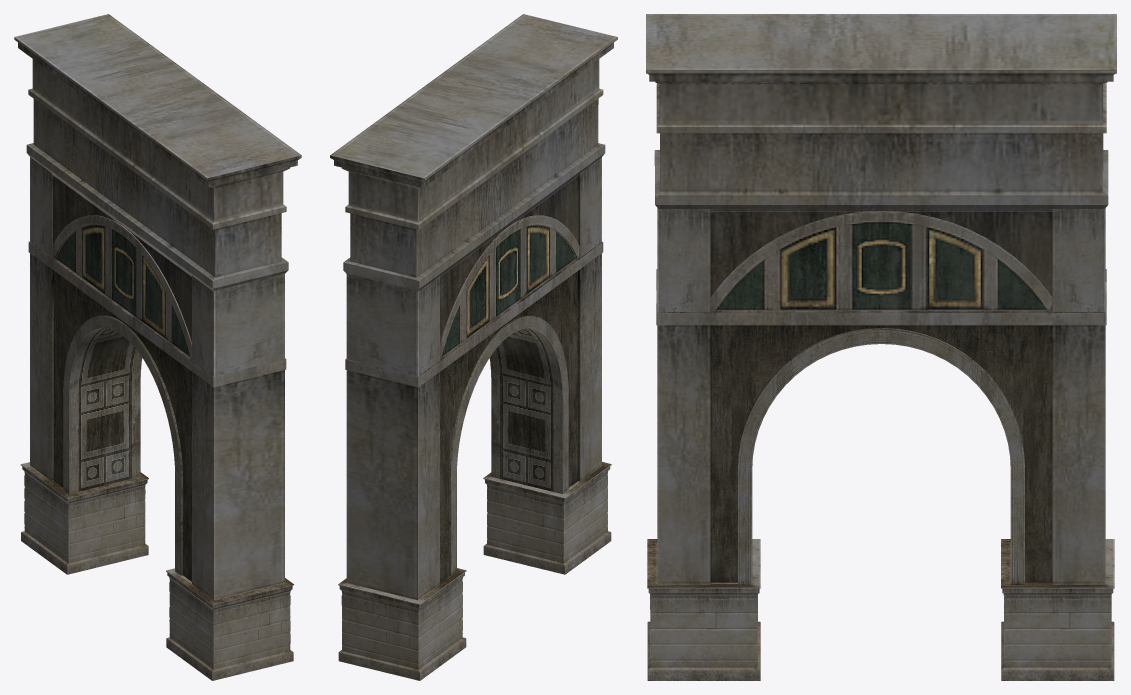
File: sm0012_arcadegate01.fbx
The picture shows the model from 3 angles, left to right: view 1: azimuth 30°, elevation 25°; view 2: azimuth 150°, elevation 25°; view 3: azimuth 270°, elevation 25°; orthographic projection. The views are drawn at different scales.
Visible parts, largest first — view 1: LOD_1_Group_0_Sub_1__sm0012_arcadegate01_A_Mat; view 2: LOD_1_Group_0_Sub_1__sm0012_arcadegate01_A_Mat; view 3: LOD_1_Group_0_Sub_1__sm0012_arcadegate01_A_Mat.
Part boxes in pixels (bbox=[...]): LOD_1_Group_0_Sub_1__sm0012_arcadegate01_A_Mat: bbox=[14, 14, 301, 680]; LOD_1_Group_0_Sub_1__sm0012_arcadegate01_A_Mat: bbox=[330, 14, 617, 680]; LOD_1_Group_0_Sub_1__sm0012_arcadegate01_A_Mat: bbox=[646, 14, 1116, 680].
Size of the model in its own units: 348 by 1777 by 1233.
